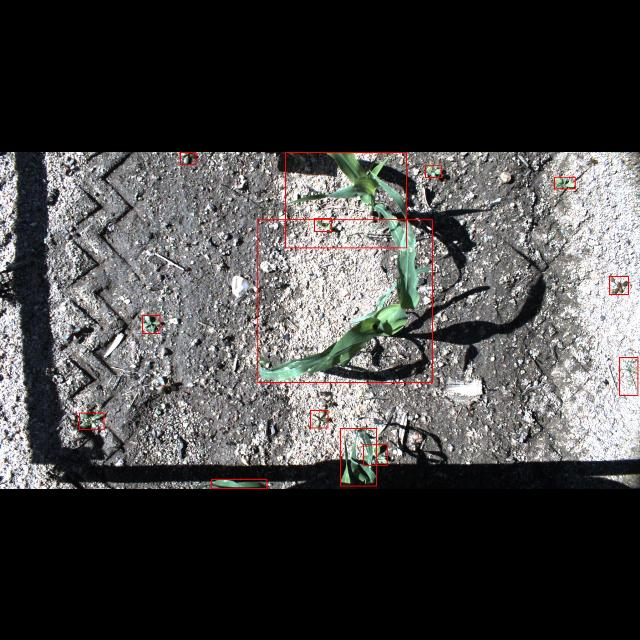crop: (258, 220, 432, 382), (286, 151, 406, 247), (341, 428, 377, 486), (212, 479, 266, 489)
weed: (620, 357, 638, 395), (363, 445, 387, 465), (78, 412, 104, 430), (142, 315, 160, 333), (310, 410, 328, 428), (610, 276, 628, 294), (554, 176, 576, 188), (314, 218, 332, 230), (424, 165, 442, 177), (180, 151, 196, 163)
